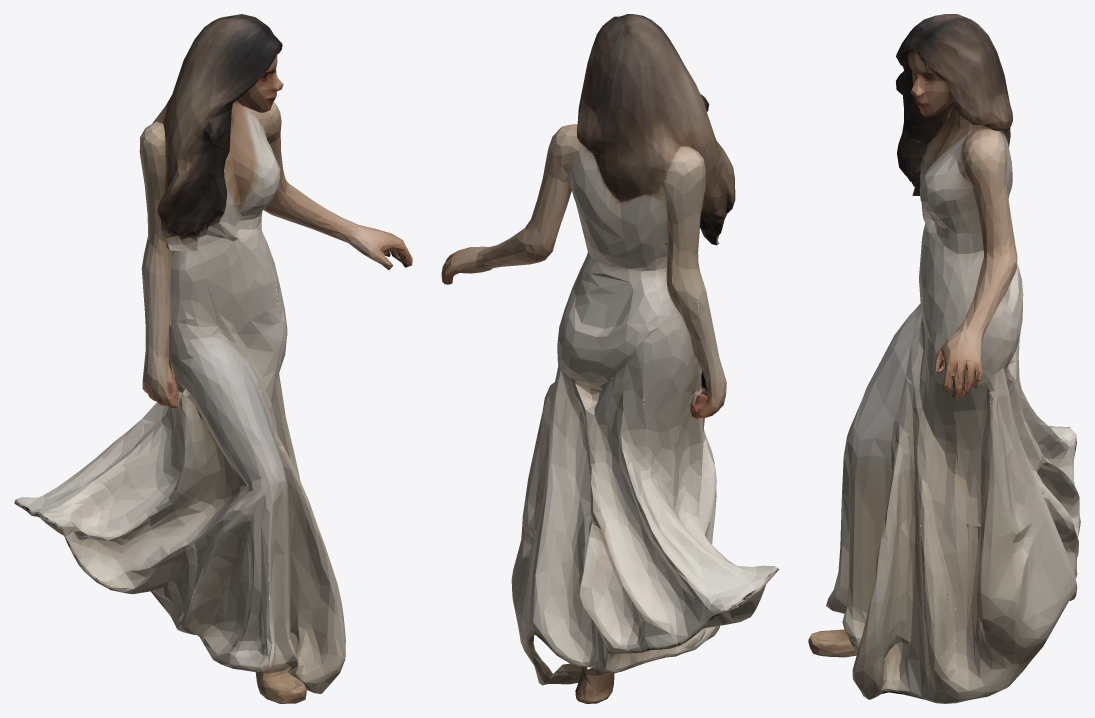
File: woman-stairs.glb
3 views of the same model, side by side, from view 1: azimuth 30°, elevation 25°; view 2: azimuth 150°, elevation 25°; view 3: azimuth 270°, elevation 25° (orthographic). The views are drawn at different scales.
Visible parts, largest first — view 1: geometry_0; view 2: geometry_0; view 3: geometry_0.
Part boxes in pixels (x1=…): geometry_0: x1=14, y1=14, x2=412, y2=703; geometry_0: x1=441, y1=14, x2=779, y2=703; geometry_0: x1=808, y1=14, x2=1080, y2=703.
Size of the model in its own units: 0.5512 by 0.9977 by 0.3725.
1 material, 1 textured.
